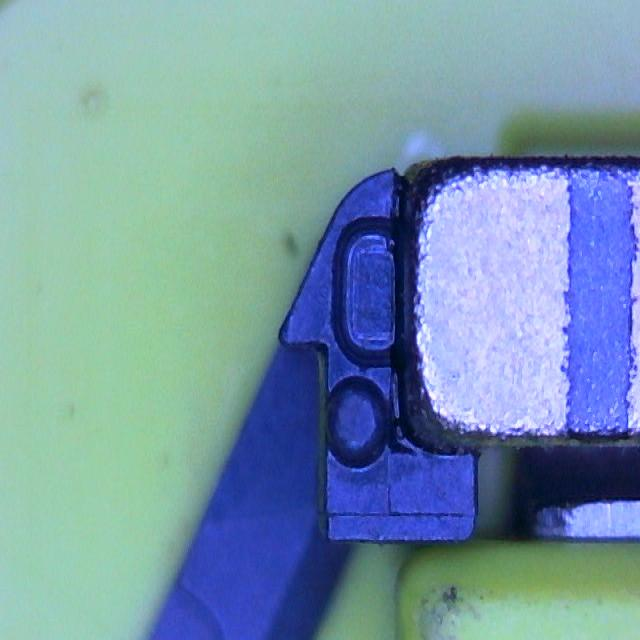lacking: (330, 216, 402, 370)
